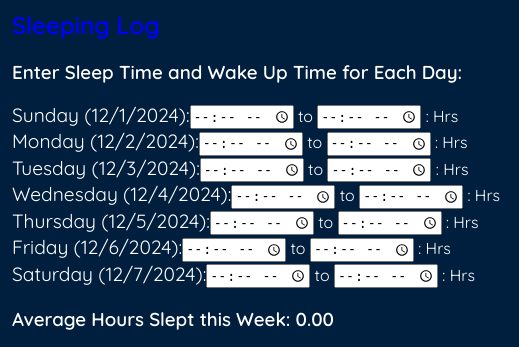
Test: Statistics Component › calculates hours slept correctly
The width and height of the screenshot is (519, 347).
Type "22:00" into the time field with test id "startMonday" at (251, 144), box 199,132 -> 303,156
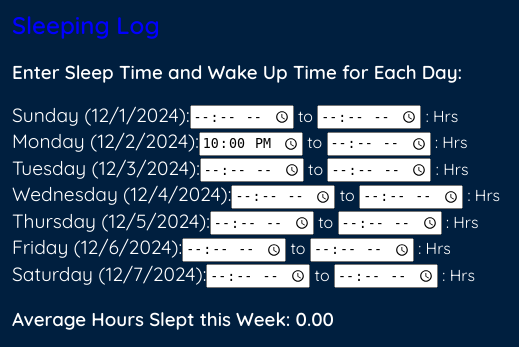
Type "06:00" into the time field with test id "endMonday" at (378, 144), box 326,132 -> 430,156
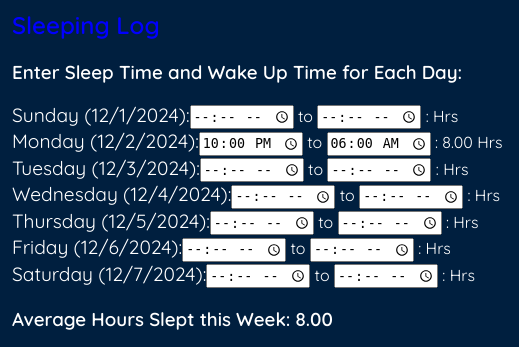
Expected: the text ": 8.00 Hrs" is shown, 430,132 -> 502,152
